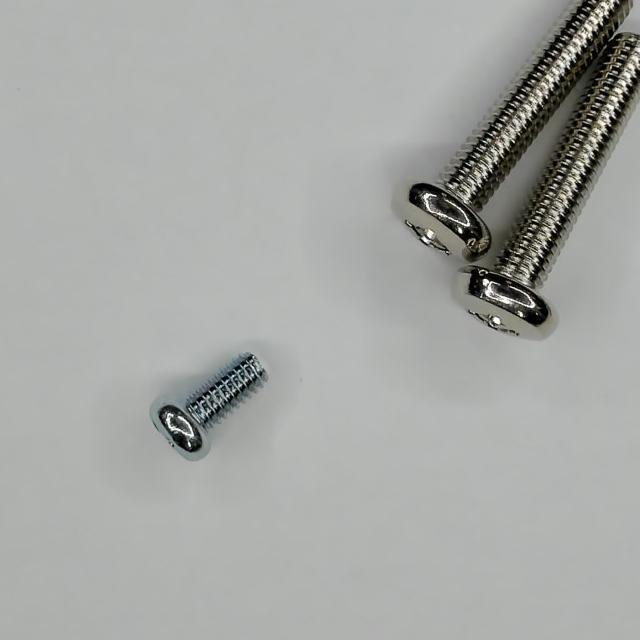Screw: (406, 0, 634, 260), (458, 33, 640, 340), (151, 355, 267, 460)
